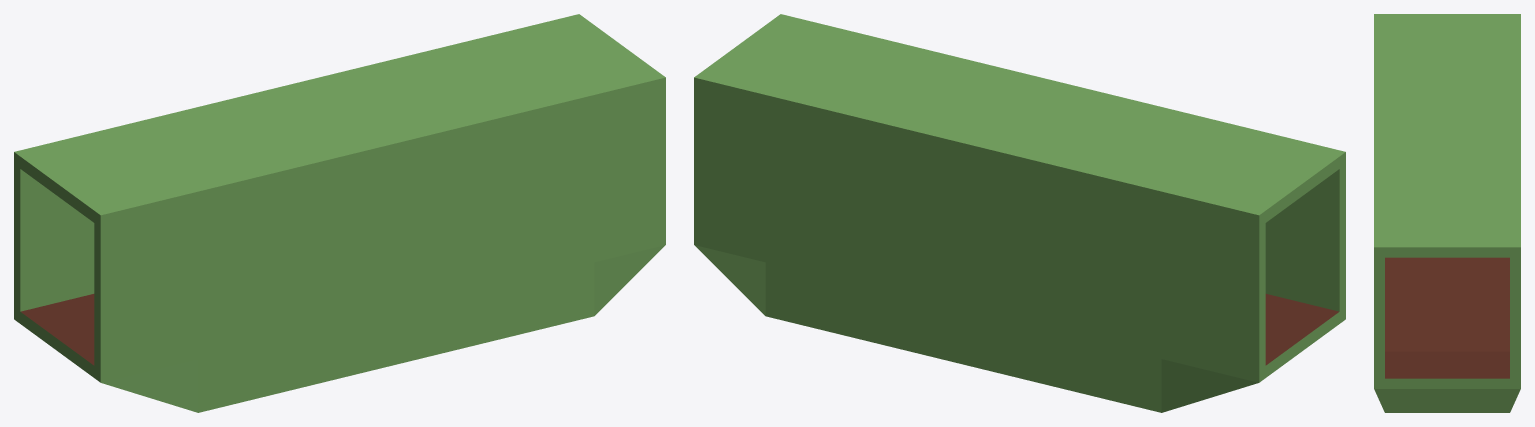
Rendered from GrappleTutorial.fbx.
3 renders of one model, left to right at view 1: azimuth 30°, elevation 25°; view 2: azimuth 150°, elevation 25°; view 3: azimuth 270°, elevation 25°, orthographic. The views are drawn at different scales.
Visible parts, largest first — view 1: Grapple Tutorial; view 2: Grapple Tutorial; view 3: Grapple Tutorial.
Boxes of the visible parts, box(x1,y1,x2,y2) form: Grapple Tutorial: box(14, 14, 665, 412); Grapple Tutorial: box(694, 14, 1345, 412); Grapple Tutorial: box(1374, 14, 1520, 412).
Bounding box in the file's own units: 2386 × 918 × 634.
